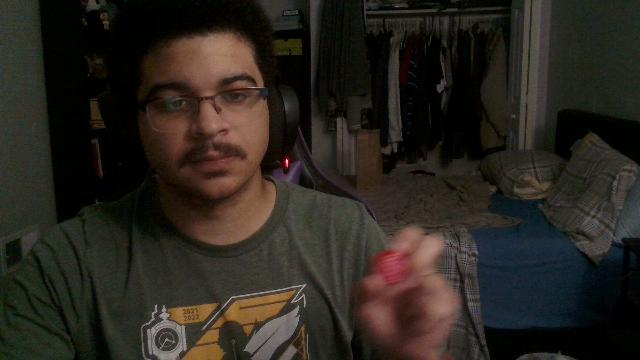cap: (373, 251, 409, 283)
